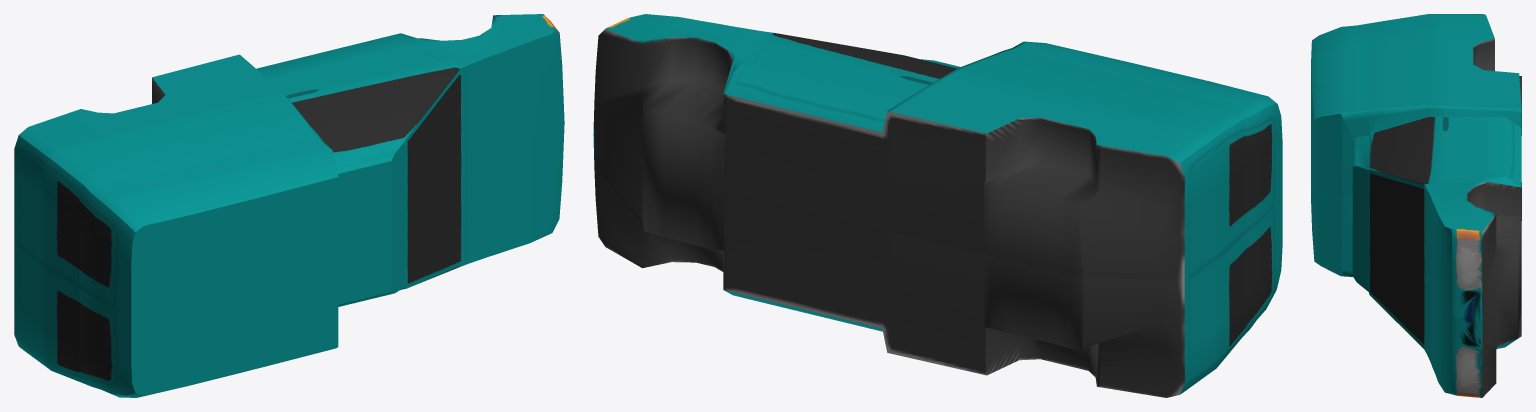
Rendered from pickup-teal.glb.
3 views of the same model, side by side, from view 1: azimuth 30°, elevation 25°; view 2: azimuth 150°, elevation 25°; view 3: azimuth 270°, elevation 25° (orthographic). The views are drawn at different scales.
Visible parts, largest first — view 1: Object_12; view 2: Object_12; view 3: Object_12.
Part boxes in pixels (x1,y1,x2,y2): Object_12: (14,14,564,397); Object_12: (593,14,1282,397); Object_12: (1311,14,1521,397).
Size of the model in its own units: 4.35 by 1.7 by 1.77.
Materials: 1 (1 with a texture image).
